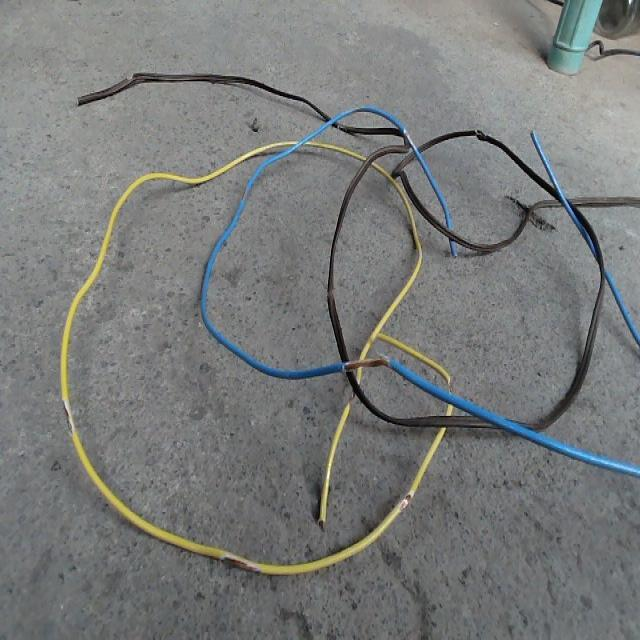-: (220, 553, 260, 576), (340, 354, 389, 370), (60, 396, 76, 440), (401, 125, 417, 151), (398, 489, 411, 512)
